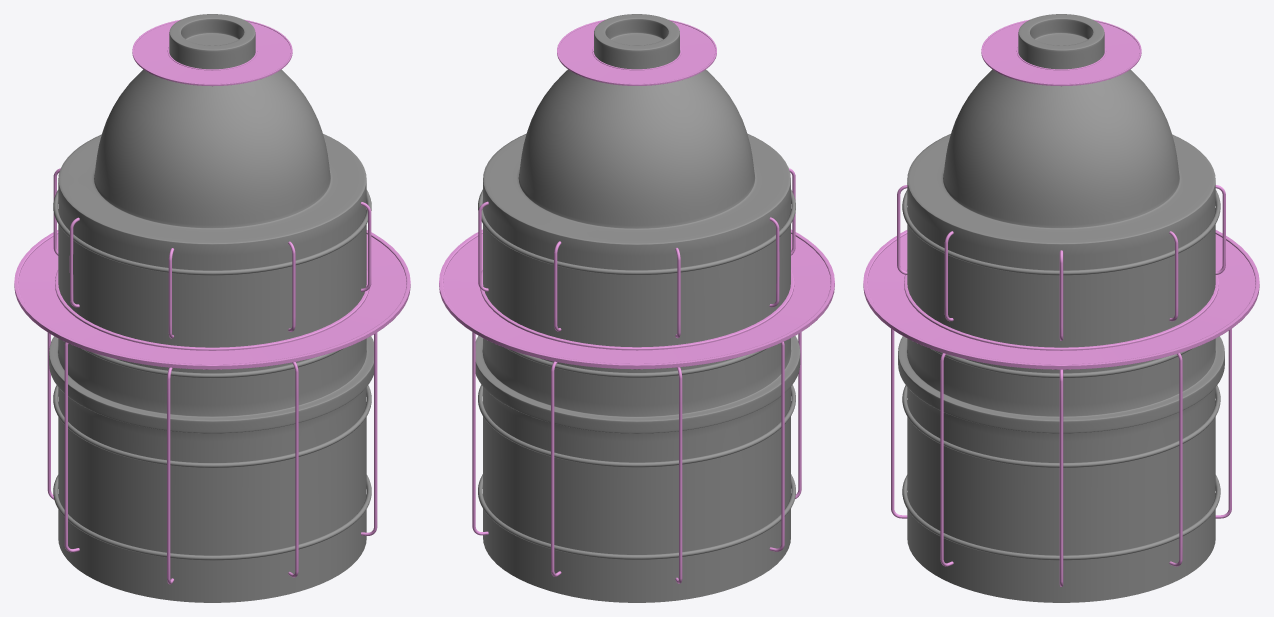
Rendered from main_IceTank.fbx.
3 renders of one model, left to right at view 1: azimuth 30°, elevation 25°; view 2: azimuth 150°, elevation 25°; view 3: azimuth 270°, elevation 25°, orthographic.
Visible parts, largest first — view 1: main_IceTank (×2); view 2: main_IceTank (×2); view 3: main_IceTank (×2).
Part boxes in pixels (bbox=[...]): main_IceTank (×2): bbox=[14, 14, 410, 602]; main_IceTank (×2): bbox=[439, 14, 834, 602]; main_IceTank (×2): bbox=[863, 14, 1259, 602].
Size of the model in its own units: 32.81 by 46.27 by 32.81.
